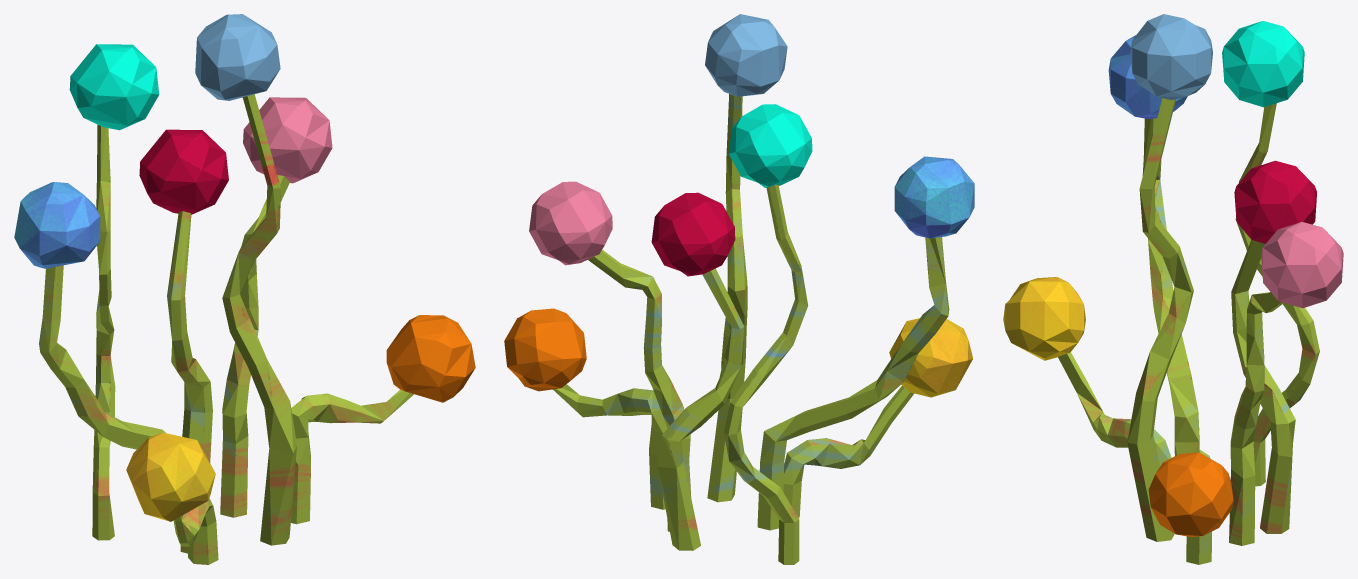
Rendered from FLOR 05.fbx.
3 renders of one model, left to right at view 1: azimuth 30°, elevation 25°; view 2: azimuth 150°, elevation 25°; view 3: azimuth 270°, elevation 25°, orthographic. The views are drawn at different scales.
Parts seen in each view (by area): view 1: flower_6.006, flower_6.008, flower_6.003, flower_6.001, flower_6.005, flower_6.007, flower_6.002, flower_6.004; view 2: flower_6.006, flower_6.003, flower_6.004, flower_6.001, flower_6.008, flower_6.007, flower_6.005, flower_6.002; view 3: flower_6.006, flower_6.003, flower_6.007, flower_6.008, flower_6.004, flower_6.002, flower_6.001, flower_6.005.
Part boxes in pixels (<box>): flower_6.006: <box>39,94,413,564</box>; flower_6.008: <box>69,44,159,130</box>; flower_6.003: <box>386,315,475,402</box>; flower_6.001: <box>139,129,228,214</box>; flower_6.005: <box>14,182,100,268</box>; flower_6.007: <box>195,14,280,100</box>; flower_6.002: <box>126,432,215,521</box>; flower_6.004: <box>243,97,332,183</box>; flower_6.006: <box>553,94,949,564</box>; flower_6.003: <box>504,308,586,391</box>; flower_6.004: <box>529,181,612,265</box>; flower_6.001: <box>651,192,735,276</box>; flower_6.008: <box>728,104,812,187</box>; flower_6.007: <box>705,14,787,96</box>; flower_6.005: <box>894,156,974,238</box>; flower_6.002: <box>889,318,972,397</box>; flower_6.006: <box>1058,98,1319,564</box>; flower_6.003: <box>1148,452,1233,536</box>; flower_6.007: <box>1130,14,1212,100</box>; flower_6.008: <box>1222,21,1304,107</box>; flower_6.004: <box>1261,222,1343,308</box>; flower_6.002: <box>1003,277,1085,360</box>; flower_6.001: <box>1234,160,1316,243</box>; flower_6.005: <box>1108,35,1187,119</box>.
Bounding box in the file's own units: 239 × 255 × 156.
